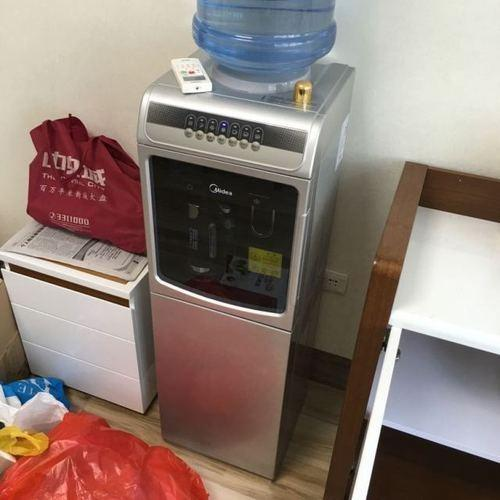Dispenser: (135, 0, 357, 481)
